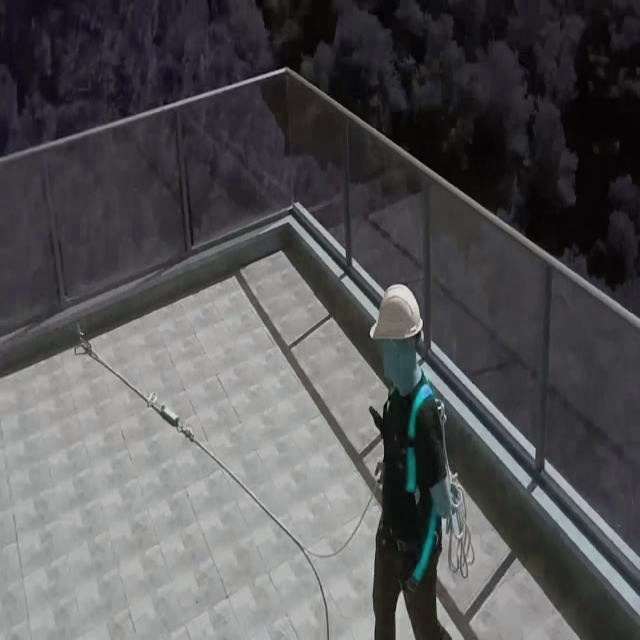safety belt: (356, 379, 459, 603)
